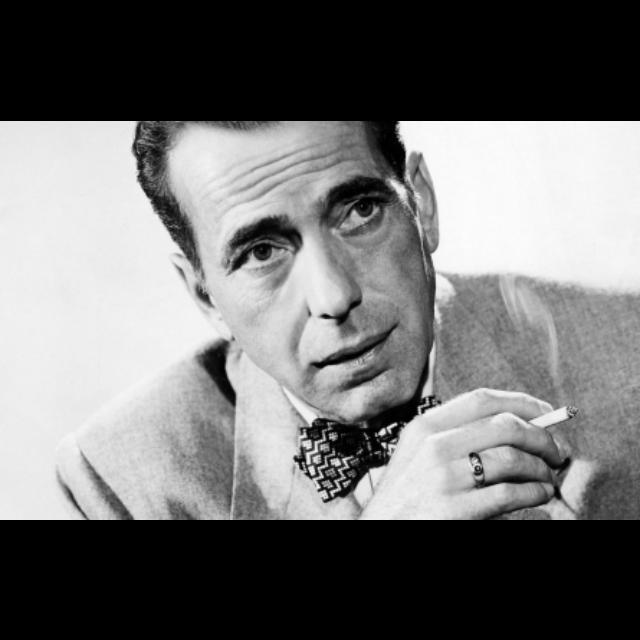rokok: (532, 400, 580, 428)
